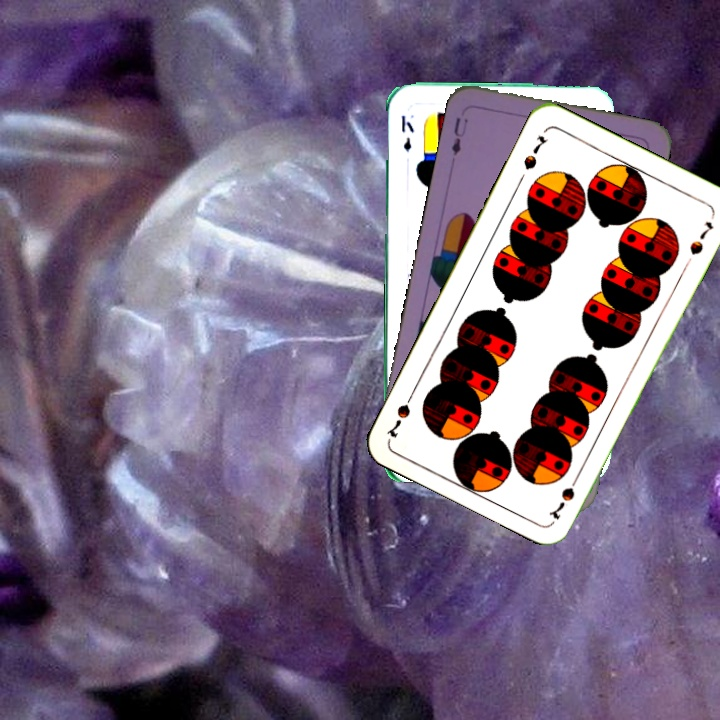EK: (397, 112, 417, 155)
EU: (447, 113, 471, 158)
S7: (545, 468, 584, 522), (519, 131, 552, 173)
